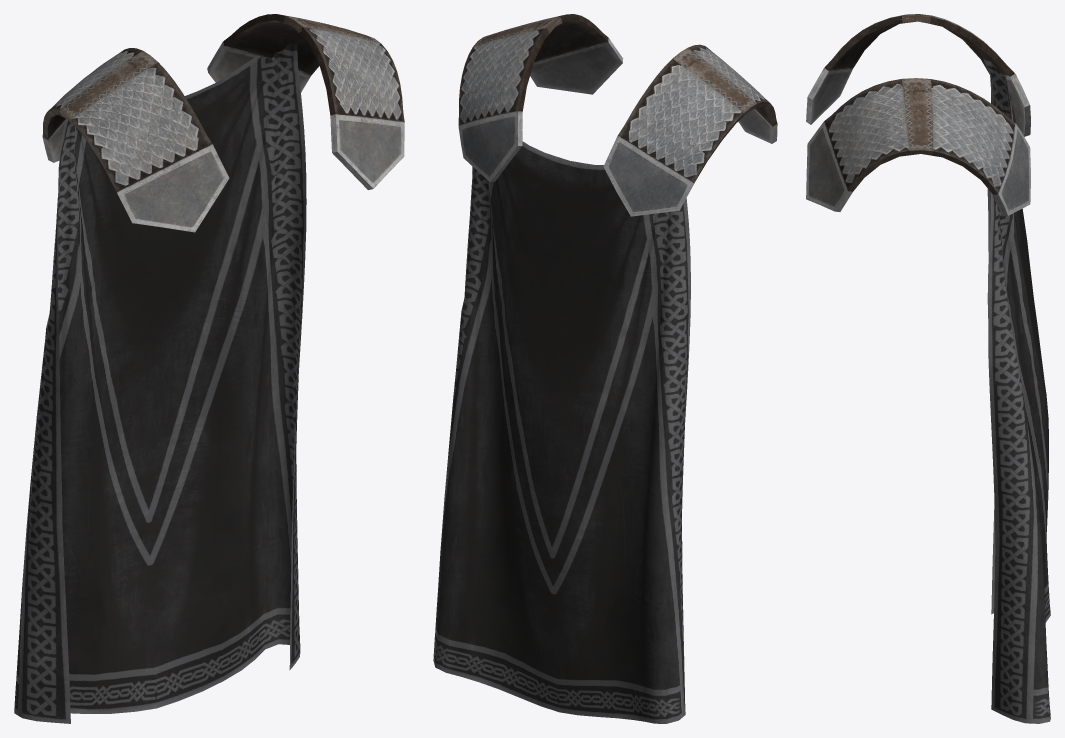
Rendered from sk_dwarf_erebor_pauldron _scale_cape_b.fbx.
The picture shows the model from 3 angles, left to right: view 1: azimuth 30°, elevation 25°; view 2: azimuth 150°, elevation 25°; view 3: azimuth 270°, elevation 25°; orthographic projection. The views are drawn at different scales.
Visible parts, largest first — view 1: sk_dwarf_erebor_pauldron _scale_cape_b.1, sk_dwarf_erebor_pauldron _scale_cape_b.0; view 2: sk_dwarf_erebor_pauldron _scale_cape_b.1, sk_dwarf_erebor_pauldron _scale_cape_b.0; view 3: sk_dwarf_erebor_pauldron _scale_cape_b.1, sk_dwarf_erebor_pauldron _scale_cape_b.0.
Boxes of the visible parts, <box> form: sk_dwarf_erebor_pauldron _scale_cape_b.1: <box>14,42,306,723</box>; sk_dwarf_erebor_pauldron _scale_cape_b.0: <box>42,14,404,232</box>; sk_dwarf_erebor_pauldron _scale_cape_b.1: <box>433,141,690,723</box>; sk_dwarf_erebor_pauldron _scale_cape_b.0: <box>458,14,777,216</box>; sk_dwarf_erebor_pauldron _scale_cape_b.1: <box>980,51,1050,723</box>; sk_dwarf_erebor_pauldron _scale_cape_b.0: <box>806,14,1030,215</box>.
Size of the model in its own units: 0.5408 by 0.4143 by 1.2.
2 materials, 2 textured.
